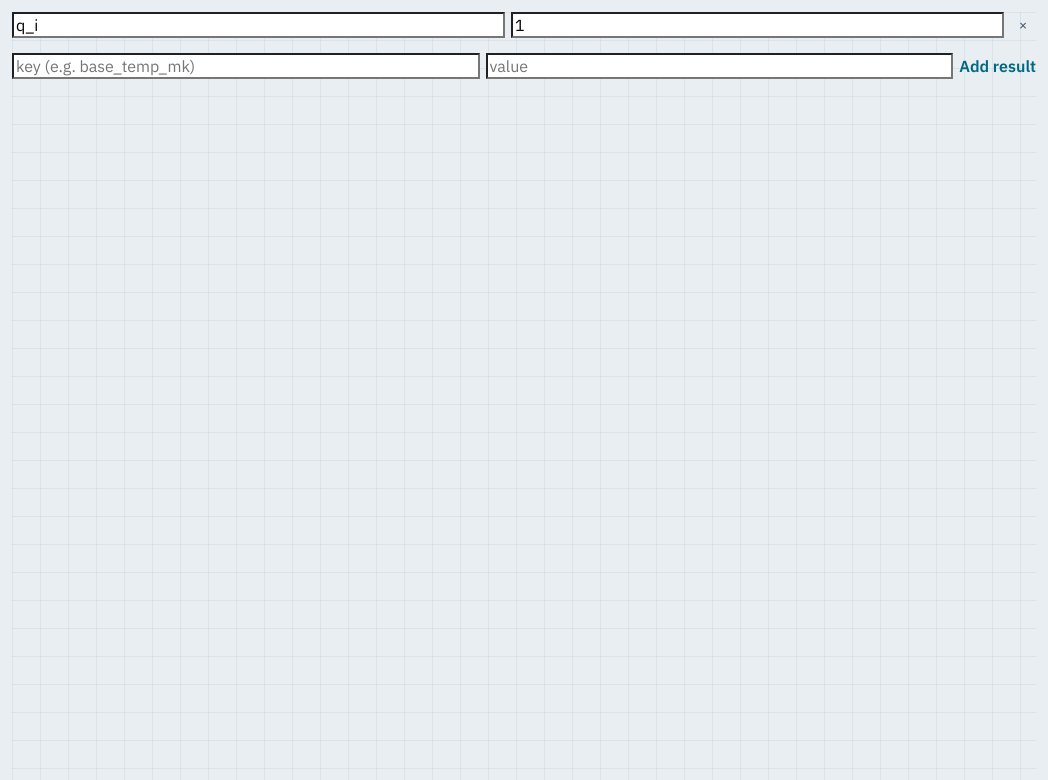
Test: ResultsFieldEditor › rejects a bad key and a duplicate key
The image size is (1048, 780).
Type "bad key" into the field named "New result key" at (246, 66), box [12,53,480,79]
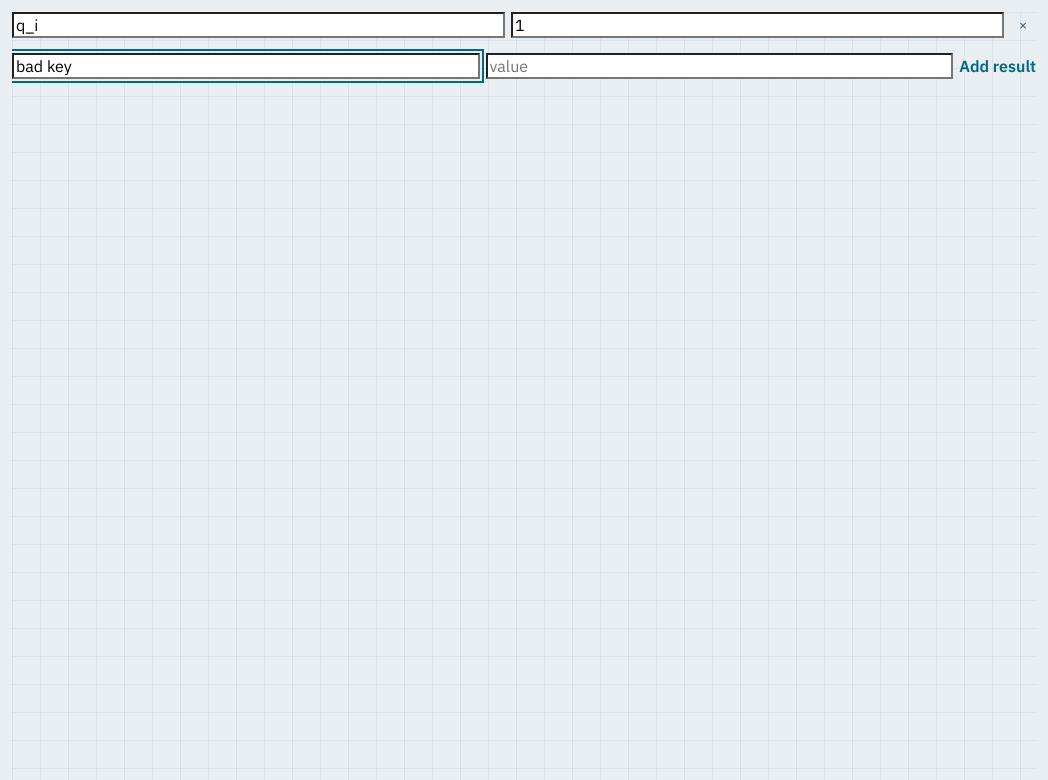
Type "1" into the field named "New result value" at (719, 66), box [486,53,953,79]
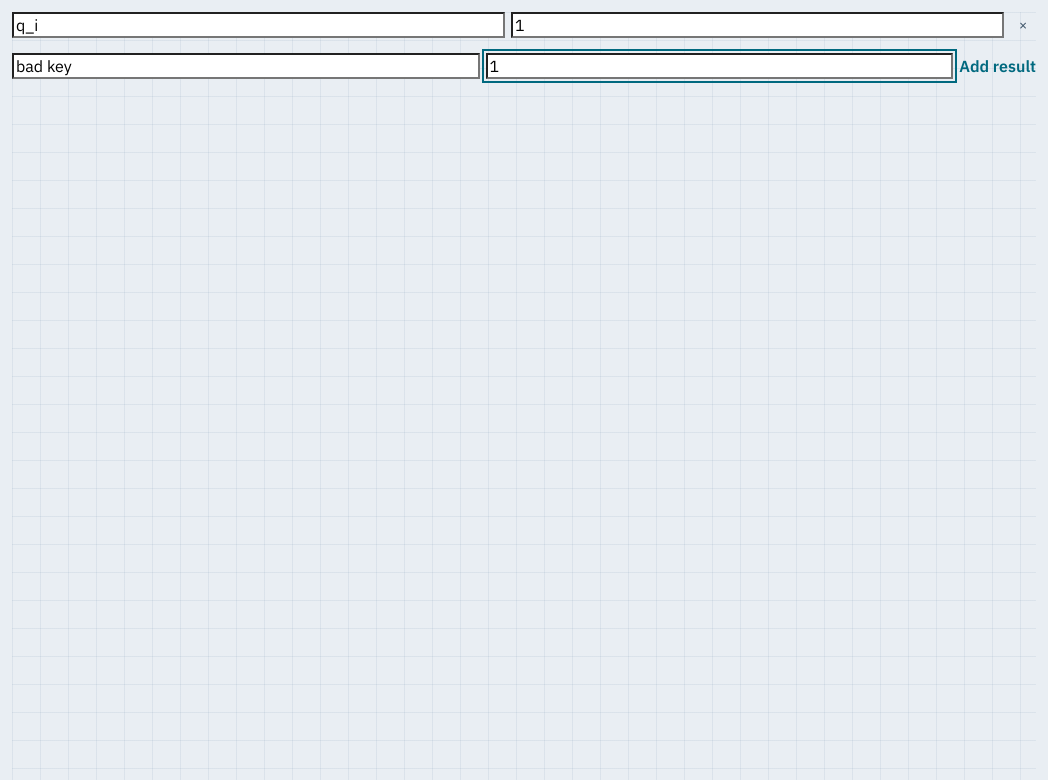
Click the button "Add result" at (998, 66), box [959,44,1036,88]
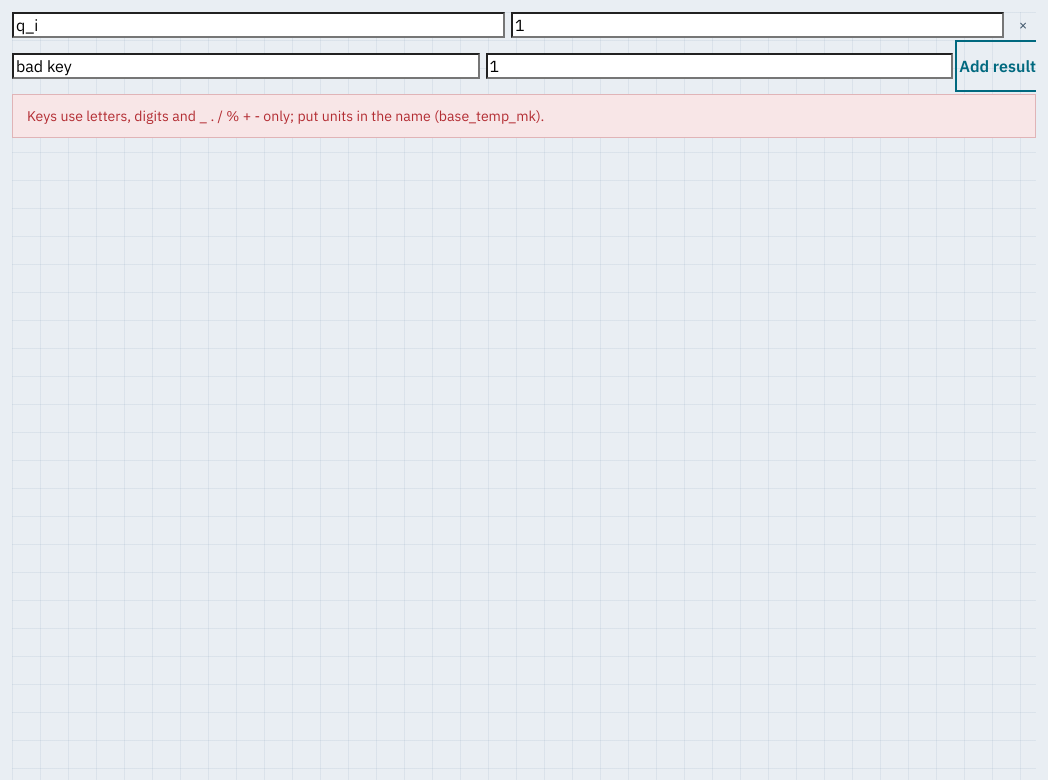
expect the text "letters, digits" is shown: met, box [27,107,544,125]
Replace the text in the field named "New result key" with "q_i" at (246, 66), box [12,53,480,79]
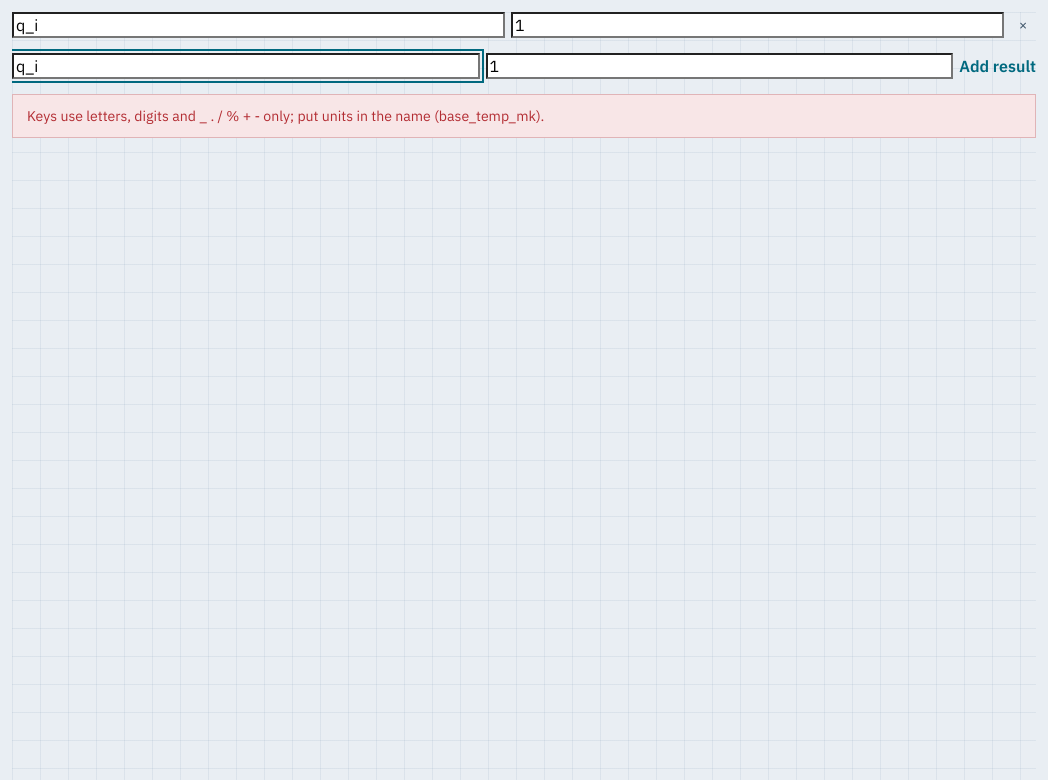
Click the button "Add result" at (998, 66), box [959,44,1036,88]
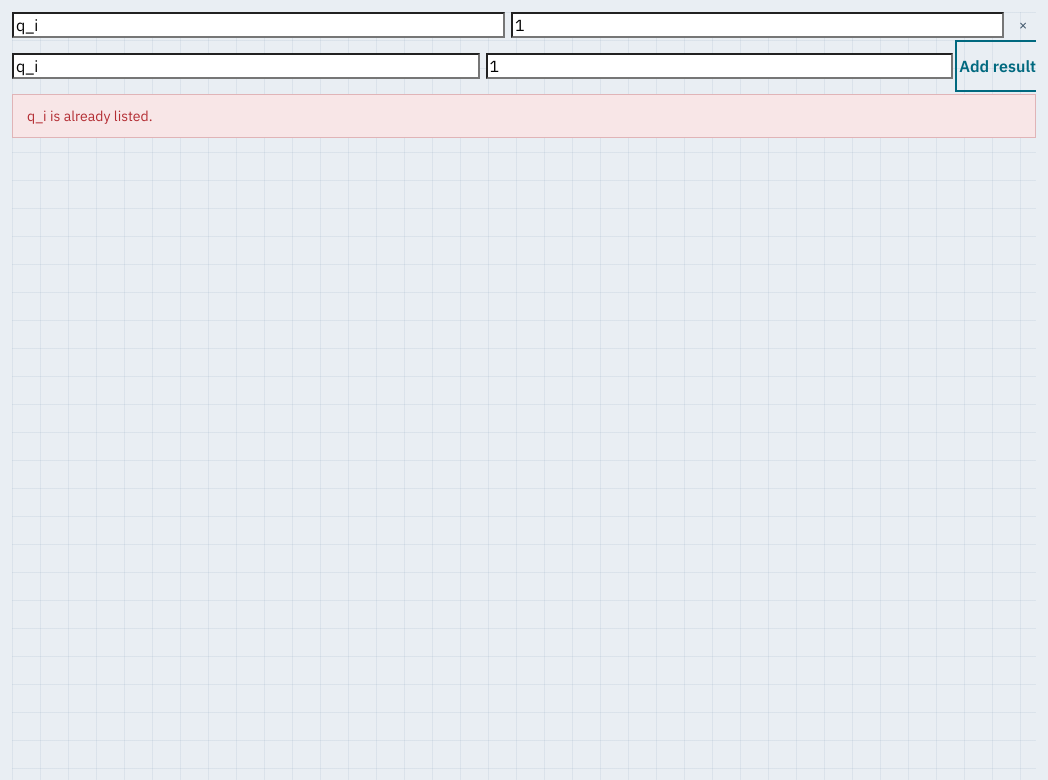
expect the text "q_i is already listed." is shown: met, box [12,94,1036,138]
